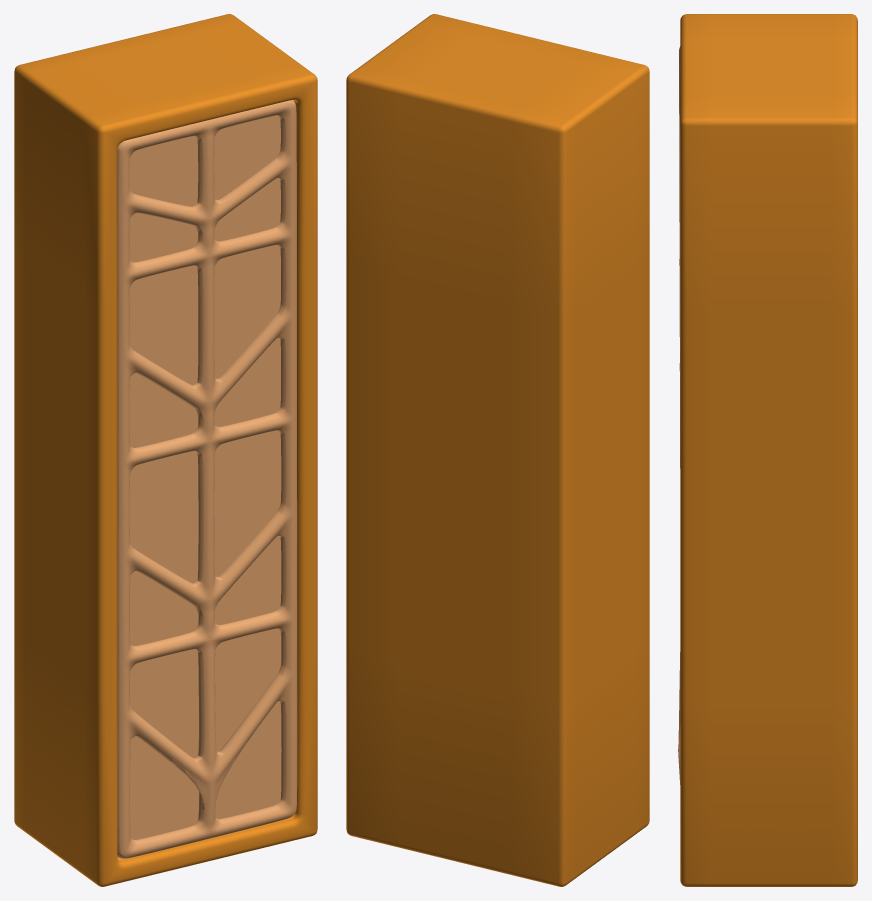
Rendered from I_nuevo.glb.
The picture shows the model from 3 angles, left to right: view 1: azimuth 30°, elevation 25°; view 2: azimuth 150°, elevation 25°; view 3: azimuth 270°, elevation 25°; orthographic projection.
Parts seen in each view (by area): view 1: Cube, Plane.009, Plane.010; view 2: Cube; view 3: Cube, Plane.010.
Boxes of the visible parts, x1,y1,x2,y2 form: Cube: (14, 14, 317, 886); Plane.009: (129, 115, 281, 839); Plane.010: (117, 100, 297, 858); Cube: (346, 14, 649, 886); Cube: (680, 14, 857, 886); Plane.010: (678, 46, 680, 784).
Bounding box in the file's own units: 1.22 × 4.04 × 0.856.
